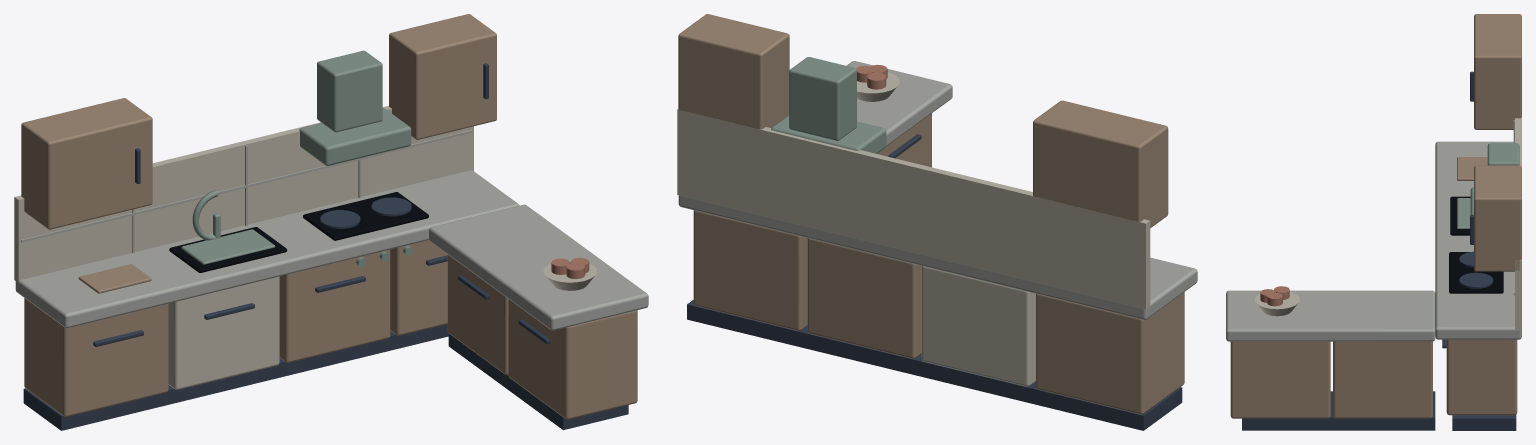
Rendered from living-kitchen.glb.
3 views of the same model, side by side, from view 1: azimuth 30°, elevation 25°; view 2: azimuth 150°, elevation 25°; view 3: azimuth 270°, elevation 25° (orthographic). The views are drawn at different scales.
Parts seen in each view (by area): view 1: kitchenWood, kitchenLinen, kitchenTrim, kitchenFrame, kitchenMetal, kitchenDark, kitchenClay; view 2: kitchenWood, kitchenLinen, kitchenTrim, kitchenFrame, kitchenMetal, kitchenClay; view 3: kitchenWood, kitchenTrim, kitchenFrame, kitchenDark, kitchenLinen, kitchenMetal, kitchenClay.
Part boxes in pixels (bbox=[...]): kitchenWood: bbox=[21, 14, 637, 419]; kitchenLinen: bbox=[14, 105, 596, 389]; kitchenTrim: bbox=[15, 130, 648, 330]; kitchenFrame: bbox=[23, 63, 628, 430]; kitchenMetal: bbox=[181, 50, 413, 267]; kitchenDark: bbox=[169, 192, 428, 272]; kitchenClay: bbox=[551, 257, 589, 279]; kitchenWood: bbox=[678, 14, 1184, 414]; kitchenLinen: bbox=[677, 72, 1150, 386]; kitchenTrim: bbox=[678, 61, 1197, 319]; kitchenFrame: bbox=[687, 134, 1182, 430]; kitchenMetal: bbox=[771, 57, 886, 153]; kitchenClay: bbox=[856, 64, 887, 89]; kitchenWood: bbox=[1230, 14, 1521, 418]; kitchenTrim: bbox=[1226, 120, 1521, 341]; kitchenFrame: bbox=[1242, 71, 1516, 430]; kitchenDark: bbox=[1449, 196, 1503, 293]; kitchenLinen: bbox=[1254, 117, 1521, 330]; kitchenMetal: bbox=[1457, 143, 1519, 228]; kitchenClay: bbox=[1260, 286, 1289, 306].
Size of the model in its own units: 3.94 by 2.28 by 2.6.
